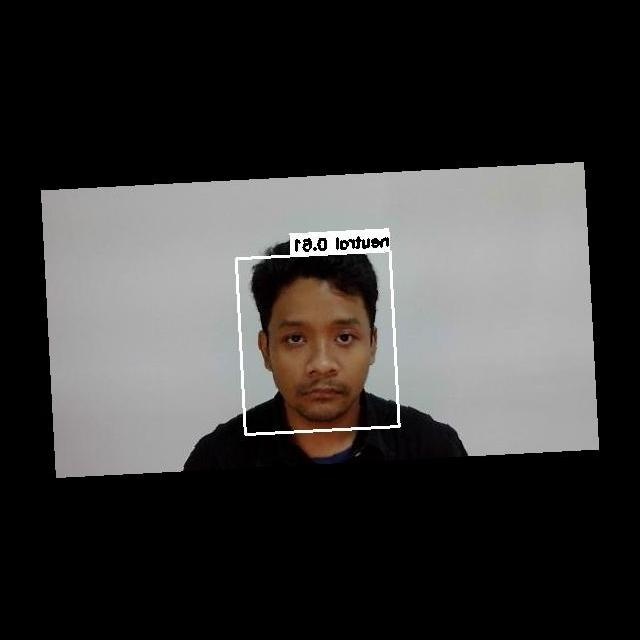Natural: (269, 306, 374, 410)
